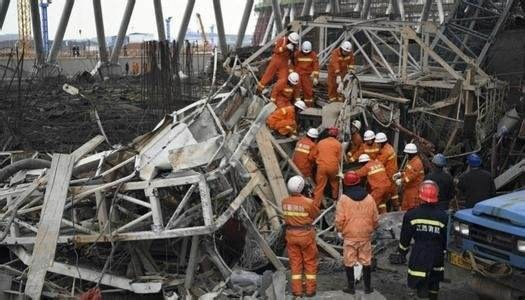blue: (465, 152, 481, 170), (431, 153, 446, 169)
red: (416, 178, 441, 205), (342, 169, 361, 191), (325, 125, 338, 139)
white: (287, 173, 308, 197), (402, 142, 417, 159), (374, 130, 388, 148), (361, 129, 375, 146), (286, 30, 300, 46), (339, 40, 352, 57), (356, 152, 370, 167), (305, 127, 319, 142), (293, 99, 306, 114), (287, 70, 299, 86), (349, 118, 360, 134), (300, 40, 312, 54)
